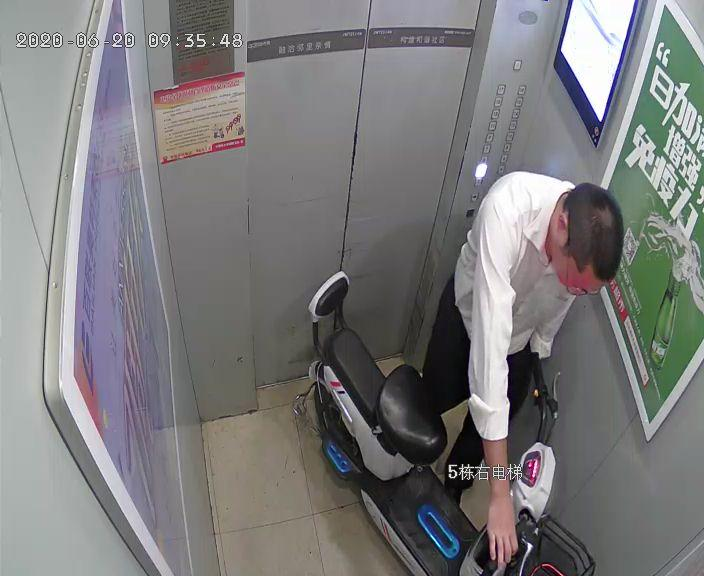Electric-bicycle: (288, 265, 595, 574)
